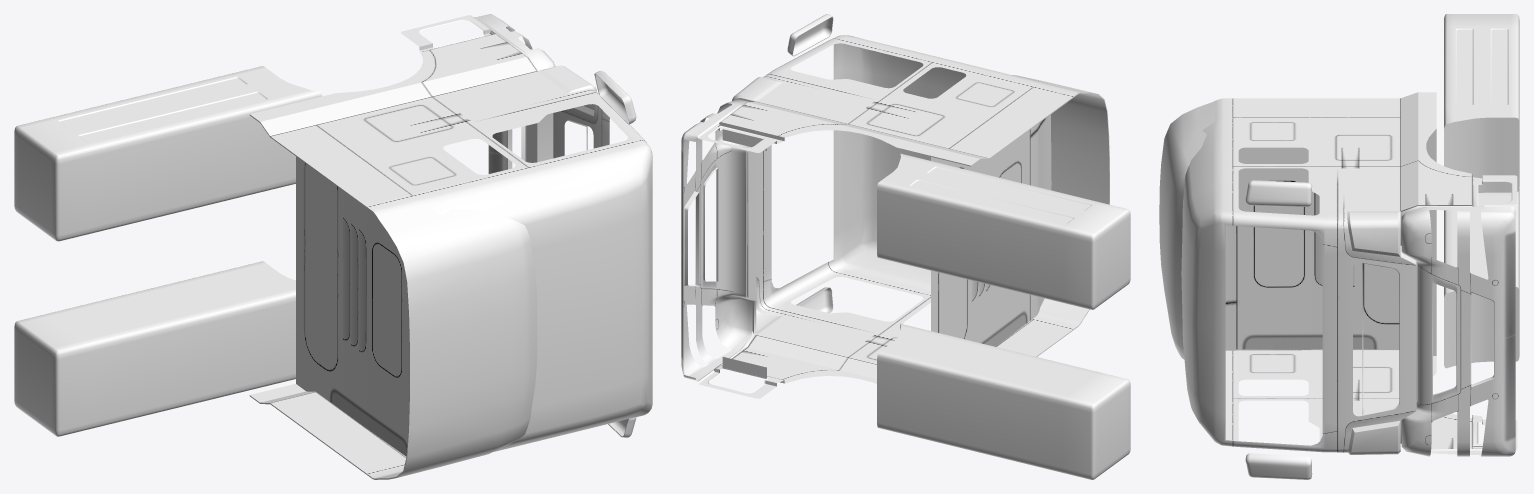
File: body.obj
The picture shows the model from 3 angles, left to right: view 1: azimuth 30°, elevation 25°; view 2: azimuth 150°, elevation 25°; view 3: azimuth 270°, elevation 25°; orthographic projection. The views are drawn at different scales.
Visible parts, largest first — view 1: Cab, Object006; view 2: Cab, Object006; view 3: Cab, Object006.
Boxes of the visible parts, x1,y1,x2,y2 form: Cab: (249,14,652,479); Object006: (14,66,322,436); Cab: (681,14,1109,398); Object006: (877,153,1130,479); Cab: (1159,92,1517,479); Object006: (1444,14,1519,368).
Bounding box in the file's own units: 4.41 × 2.95 × 3.26.
Materials: 1 (1 with a texture image).
